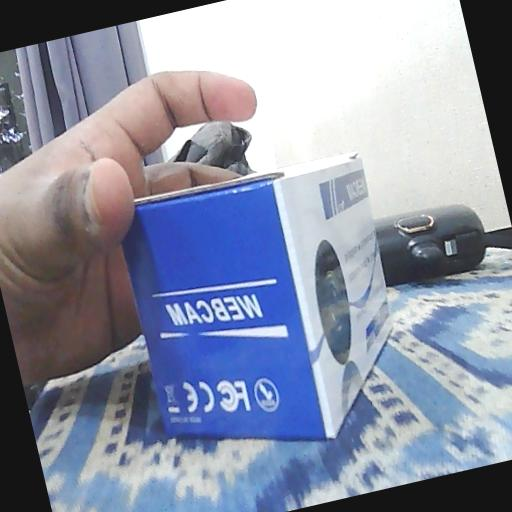webcam_box: (111, 144, 424, 478)
